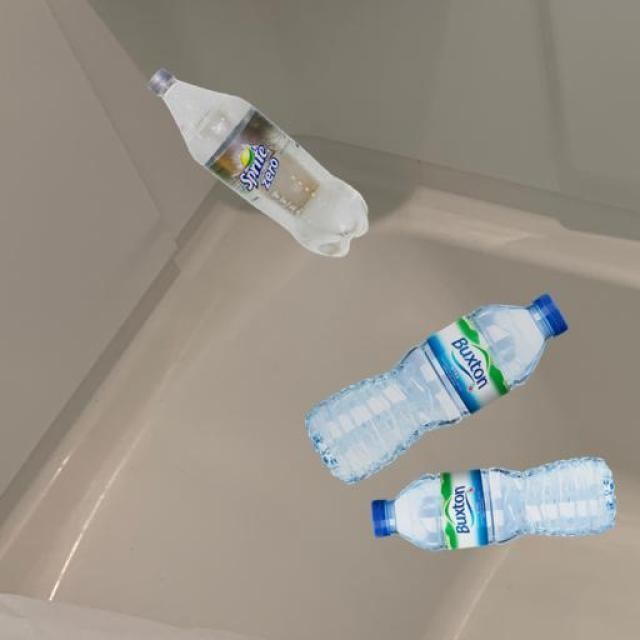bottle: (304, 291, 568, 485), (146, 66, 370, 259), (370, 454, 616, 552)
